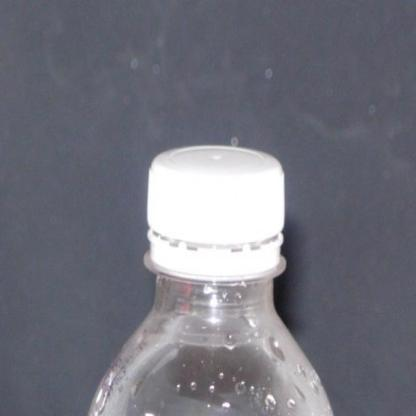Plastic Bottle: (89, 146, 333, 416)
